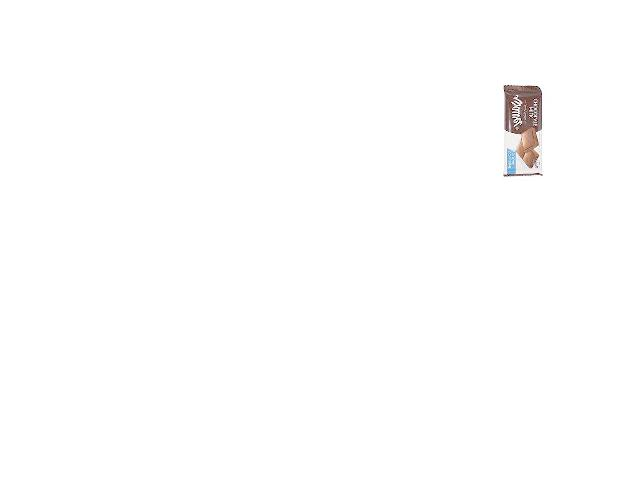chocolate: (501, 86, 544, 177)
